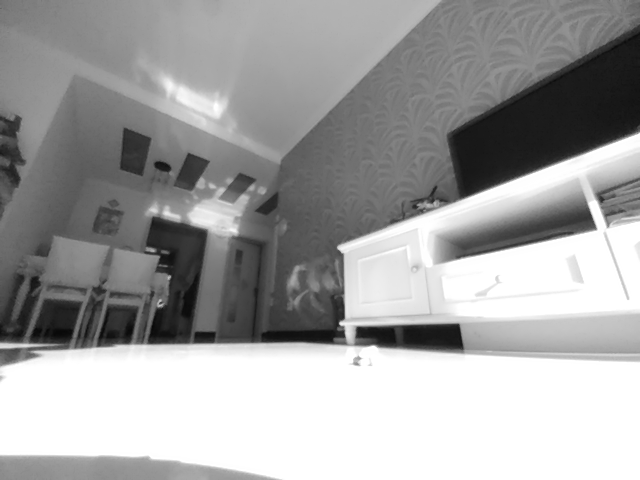pet feces: (350, 344, 378, 367)
